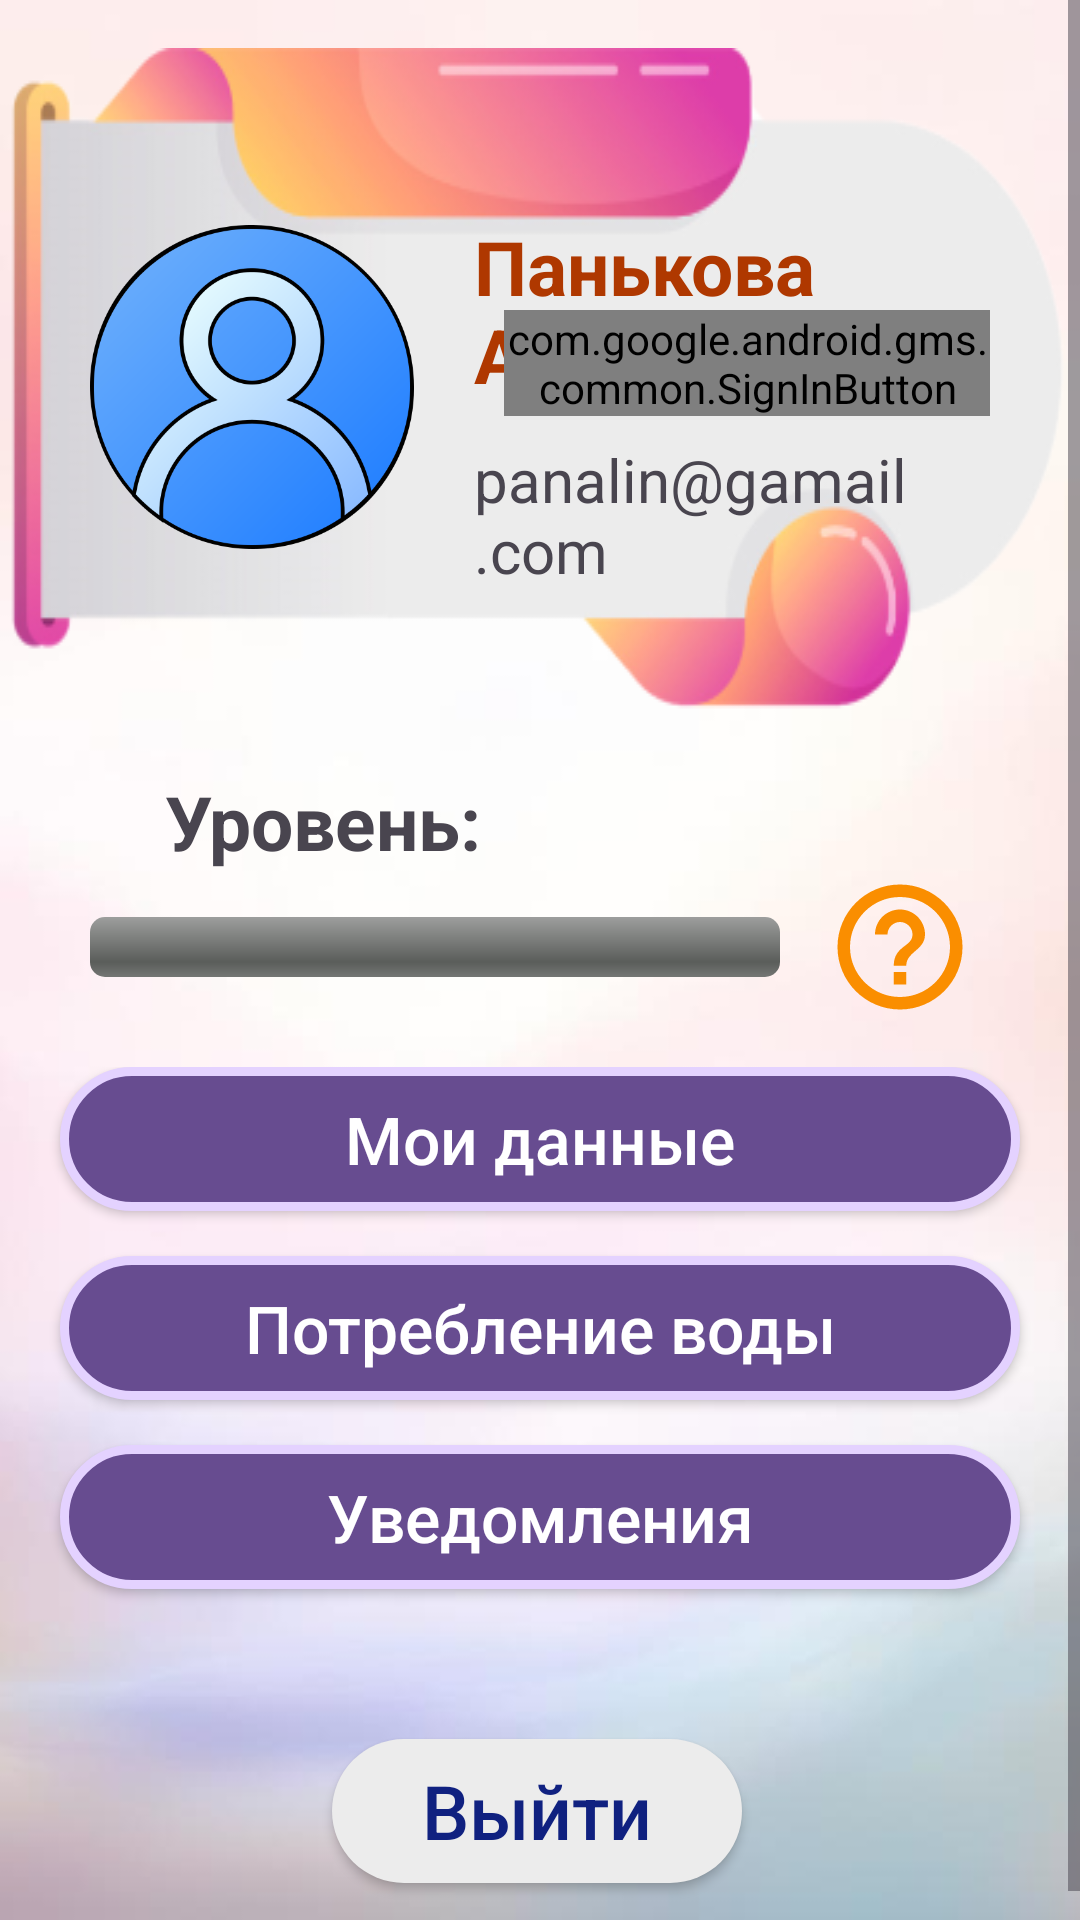

Named icons in this screenshot (1080w x 1920h) and their centers, [x,y]:
help: [900,947]
user: [252,387]
